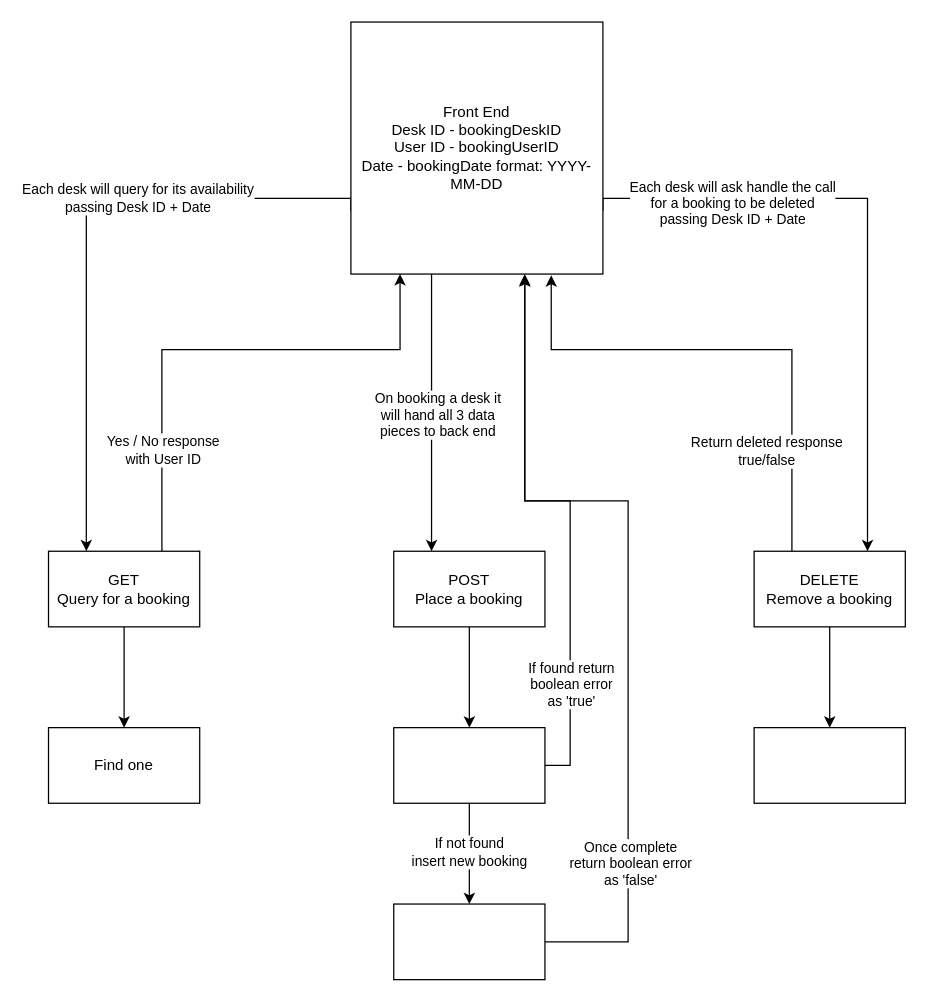
The diagram is 927 pixels wide and 1002 high, and some of its shapes have lost their labels. Here are the shapes that lost their labels. From the top down, the box of each, then its label:
(392, 726, 545, 803): Find one booking
(753, 726, 905, 803): Delete 1 by object ID
(392, 903, 545, 980): Insert one
